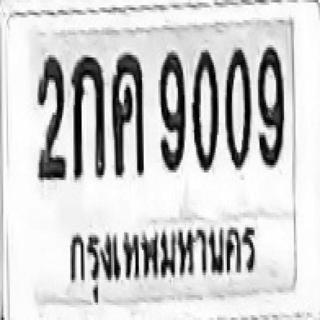A01: (70, 55, 104, 178)
A04: (111, 51, 144, 176)
N00: (191, 48, 219, 170), (224, 46, 250, 169)
N02: (36, 55, 65, 180)
N09: (256, 45, 284, 165), (158, 50, 185, 170)
P04: (65, 216, 260, 302)
